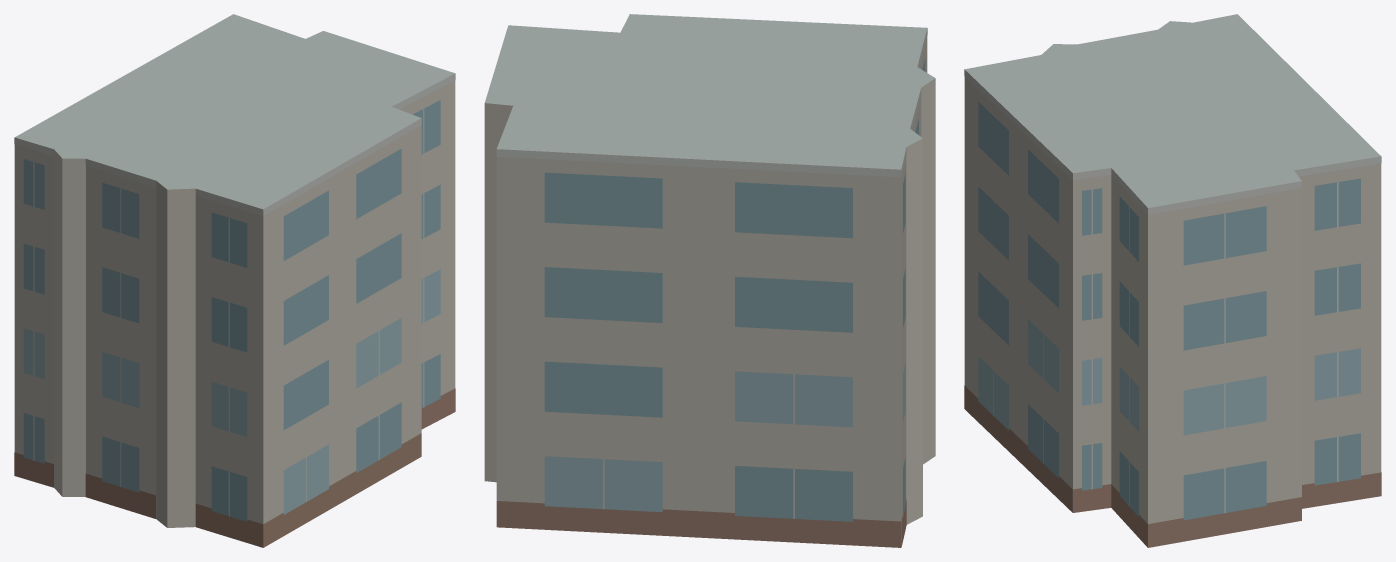
The model's file is survey-upis-32731119.glb.
The picture shows the model from 3 angles, left to right: view 1: azimuth 30°, elevation 25°; view 2: azimuth 150°, elevation 25°; view 3: azimuth 270°, elevation 25°; orthographic projection. The views are drawn at different scales.
Parts seen in each view (by area): view 1: survey-upis-32731119.tmp; view 2: survey-upis-32731119.tmp; view 3: survey-upis-32731119.tmp.
Part boxes in pixels (x1=…): survey-upis-32731119.tmp: x1=14, y1=14, x2=455, y2=547; survey-upis-32731119.tmp: x1=484, y1=14, x2=935, y2=547; survey-upis-32731119.tmp: x1=964, y1=14, x2=1381, y2=547.
Size of the model in its own units: 14.77 by 12.04 by 13.4.
